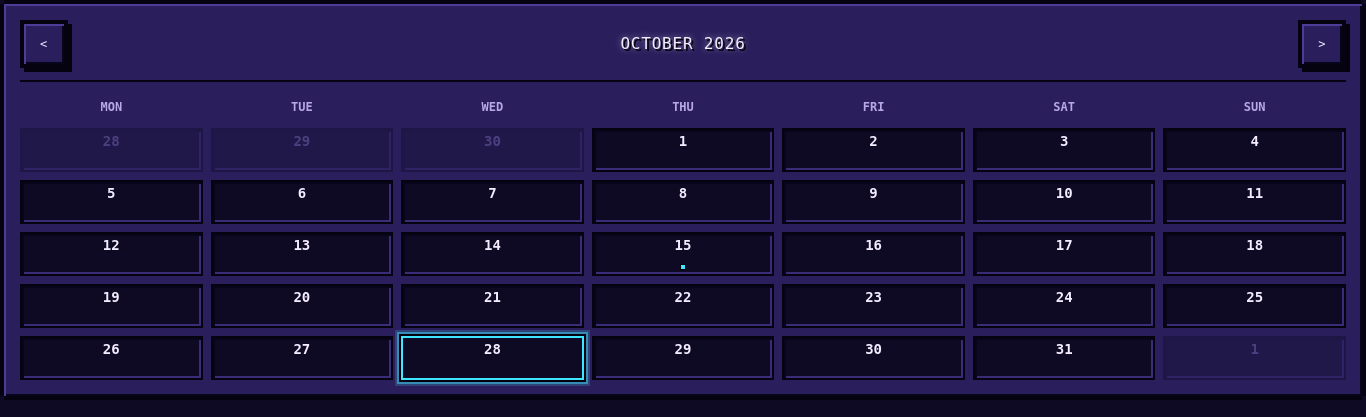
Scenario: MonthCalendar › displays tooltip with class name, time, and instructor when mouse hovers over day with class marks
The width and height of the screenshot is (1366, 417).
Note: Hover over the day tile
Hover over the button "15" at (683, 254), box x1=592 y1=232 x2=774 y2=276
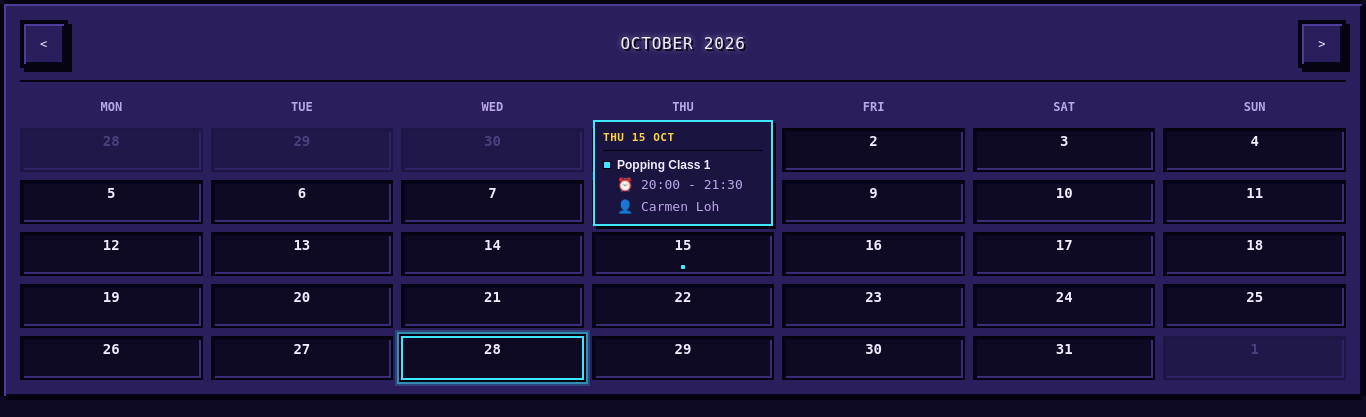
Result: the tooltip "Thu 15 Oct Popping Class 1 ⏰ 20:00 - 21:30 👤 Carmen Loh" is shown at x1=593 y1=120 x2=773 y2=226
Result: the tooltip shows "Popping Class 1" at x1=617 y1=158 x2=710 y2=172
Result: the tooltip shows "20:00 - 21:30" at x1=641 y1=177 x2=743 y2=192
Note: Mouse leave removes tooltip
Move the pointer off the button "15", box x1=592 y1=232 x2=774 y2=276
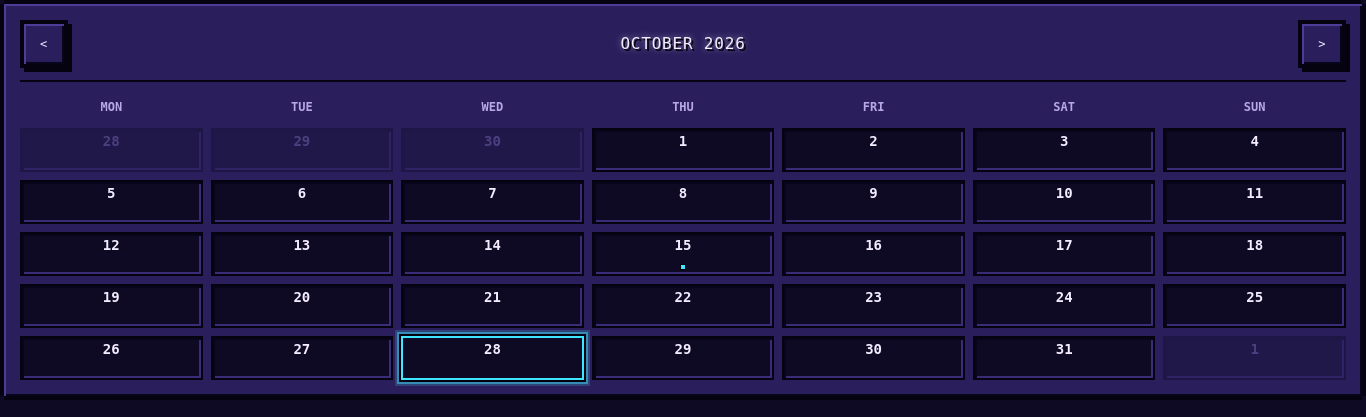
Result: the tooltip "Thu 15 Oct Popping Class 1 ⏰ 20:00 - 21:30 👤 Carmen Loh" is gone
